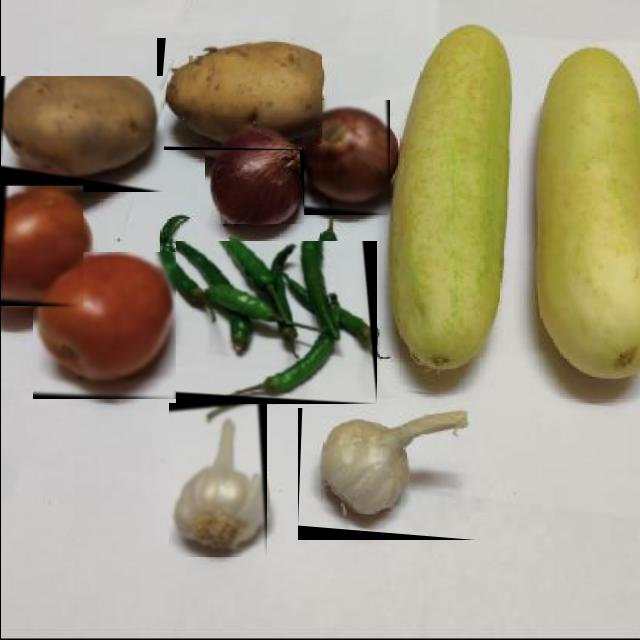Pepper: (175, 241, 376, 404)
garlic: (297, 408, 475, 540), (168, 403, 266, 557)
onion: (297, 100, 389, 215), (202, 134, 302, 224)
potato: (0, 76, 162, 192), (154, 38, 320, 150)
tomato: (31, 252, 186, 399), (0, 186, 82, 306)
